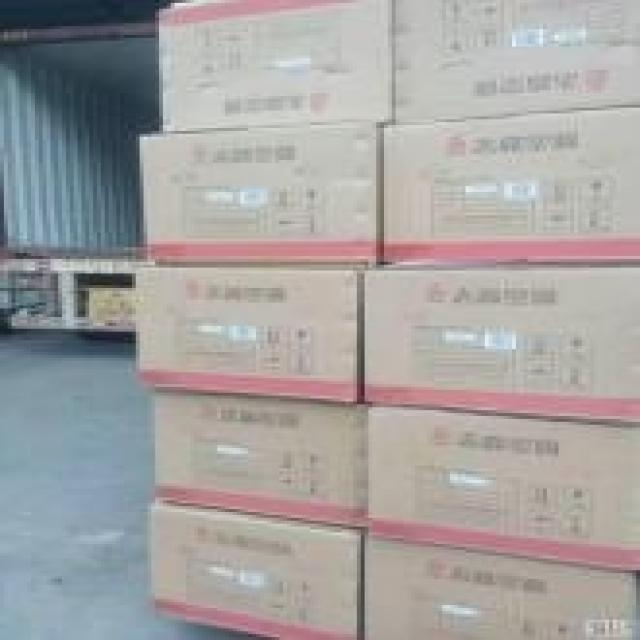box: (362, 259, 636, 428), (361, 406, 636, 570), (379, 105, 636, 267), (143, 118, 377, 269), (159, 1, 396, 134), (137, 265, 359, 404), (155, 391, 365, 536), (390, 1, 636, 124), (148, 501, 362, 637), (358, 539, 635, 637)
